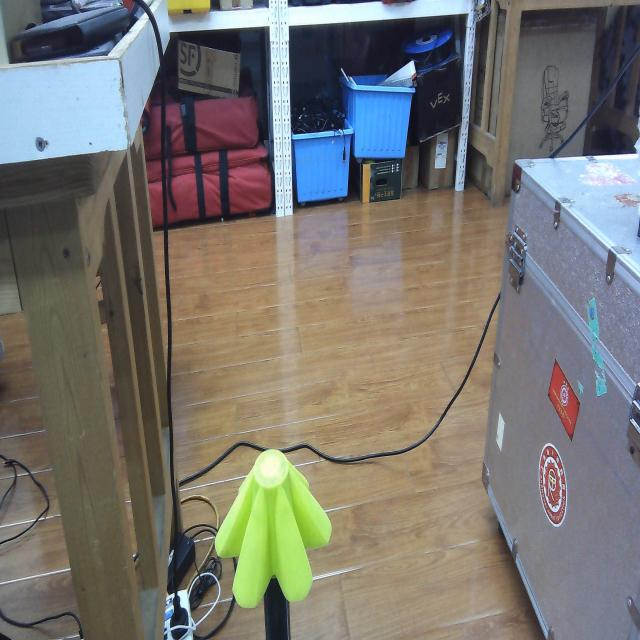Yellow-Stake-Head: (215, 448, 332, 609)
